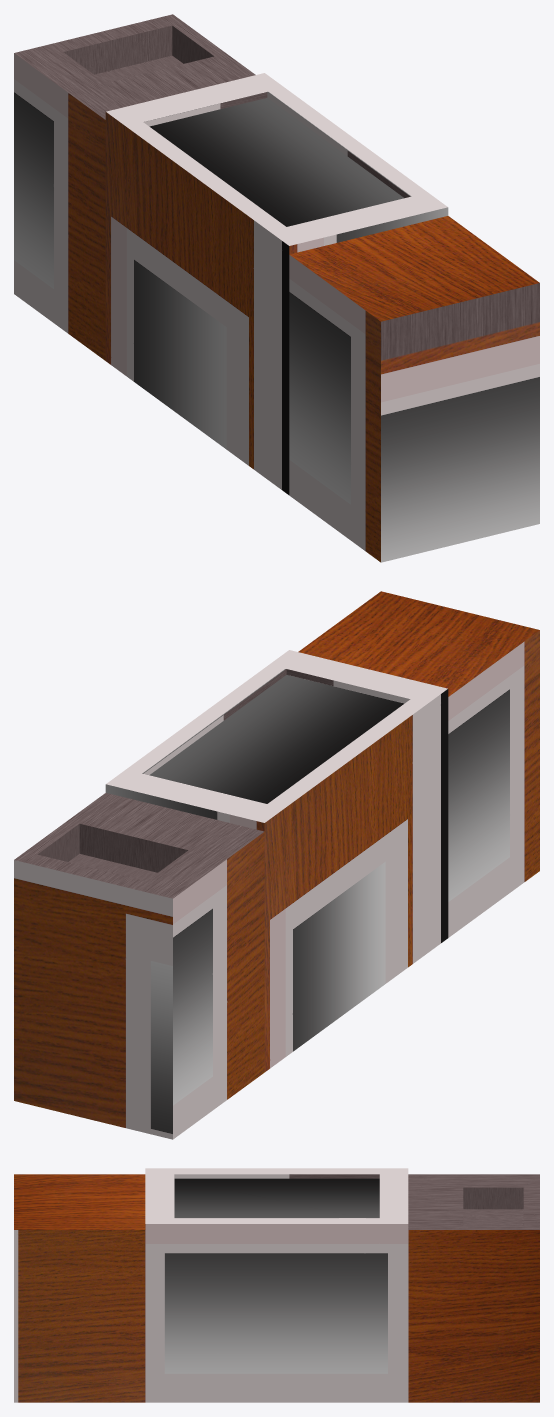
The model's file is stove.fbx.
3 views of the same model, one above another, from view 1: azimuth 30°, elevation 25°; view 2: azimuth 150°, elevation 25°; view 3: azimuth 270°, elevation 25° (orthographic). The views are drawn at different scales.
Parts seen in each view (by area): view 1: stove; view 2: stove; view 3: stove.
Boxes of the visible parts, box(x1,y1,x2,y2) form: stove: box(14, 14, 539, 562); stove: box(14, 591, 539, 1139); stove: box(14, 1168, 539, 1402).
Bounding box in the file's own units: 1 × 1.5 × 4.
